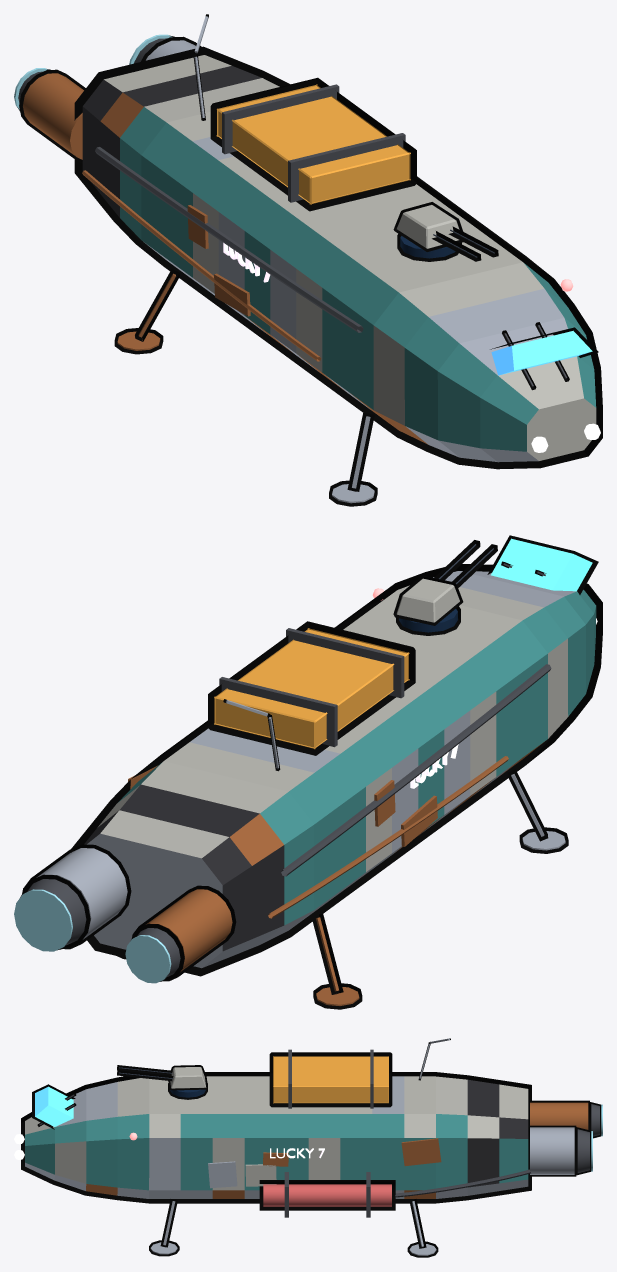
The model's file is Shuttle_Rundown.fbx.
3 renders of one model, top to bottom at view 1: azimuth 30°, elevation 25°; view 2: azimuth 150°, elevation 25°; view 3: azimuth 270°, elevation 25°, orthographic. The views are drawn at different scales.
Visible parts, largest first — view 1: Hull.002, RoofPod, EngR_Body, Window, Pipe1, Gun_House, PodStrap0.4, PodStrap2.8, Pipe2, LegF-1, LegF-1_Pad, LegR-1_Pad (+4 smaller); view 2: Hull.002, RoofPod, EngL_Body, EngR_Body, Window, EngL_Glow, Pipe1, Gun_House, PodStrap2.8, PodStrap0.4, EngL_Bell, EngR_Glow (+8 smaller); view 3: Hull.002, RoofPod, Tank, EngL_Body, EngR_Body, Window, Plate5, Gun_House, EngL_Bell, Plate4, TankPipe, Plate1 (+9 smaller).
Boxes of the visible parts, box(x1,y1,x2,y2) form: Hull.002: box(74, 46, 602, 469); RoofPod: box(210, 77, 416, 211); EngR_Body: box(19, 69, 85, 163); Window: box(490, 327, 598, 375); Pipe1: box(95, 147, 363, 332); Gun_House: box(393, 202, 463, 251); PodStrap0.4: box(288, 133, 405, 202); PodStrap2.8: box(222, 84, 339, 154); Pipe2: box(82, 170, 321, 361); LegF-1: box(347, 413, 374, 491); LegF-1_Pad: box(329, 480, 377, 506); LegR-1_Pad: box(114, 328, 163, 354); Hull.002: box(71, 564, 602, 976); RoofPod: box(208, 621, 415, 755); EngL_Body: box(22, 844, 131, 949); EngR_Body: box(132, 885, 236, 981); Window: box(487, 535, 598, 594); EngL_Glow: box(14, 889, 72, 951); Pipe1: box(281, 664, 551, 876); Gun_House: box(393, 575, 463, 625); PodStrap2.8: box(219, 677, 337, 747); PodStrap0.4: box(286, 628, 404, 698); EngL_Bell: box(20, 874, 90, 950); EngR_Glow: box(125, 935, 171, 983); Hull.002: box(21, 1072, 531, 1203); RoofPod: box(269, 1052, 392, 1107); Tank: box(259, 1180, 395, 1210); EngL_Body: box(528, 1125, 576, 1176); EngR_Body: box(528, 1100, 589, 1130); Window: box(32, 1084, 75, 1129); Plate5: box(401, 1138, 441, 1166); Gun_House: box(168, 1065, 207, 1090); EngL_Bell: box(576, 1127, 591, 1175); Plate4: box(208, 1161, 237, 1188); TankPipe: box(395, 1169, 530, 1197); Plate1: box(245, 1164, 276, 1186).
Bounding box in the file's own units: 5.4 × 5.83 × 17.29.
